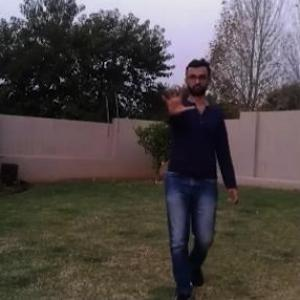follow_hand: (157, 76, 196, 118)
